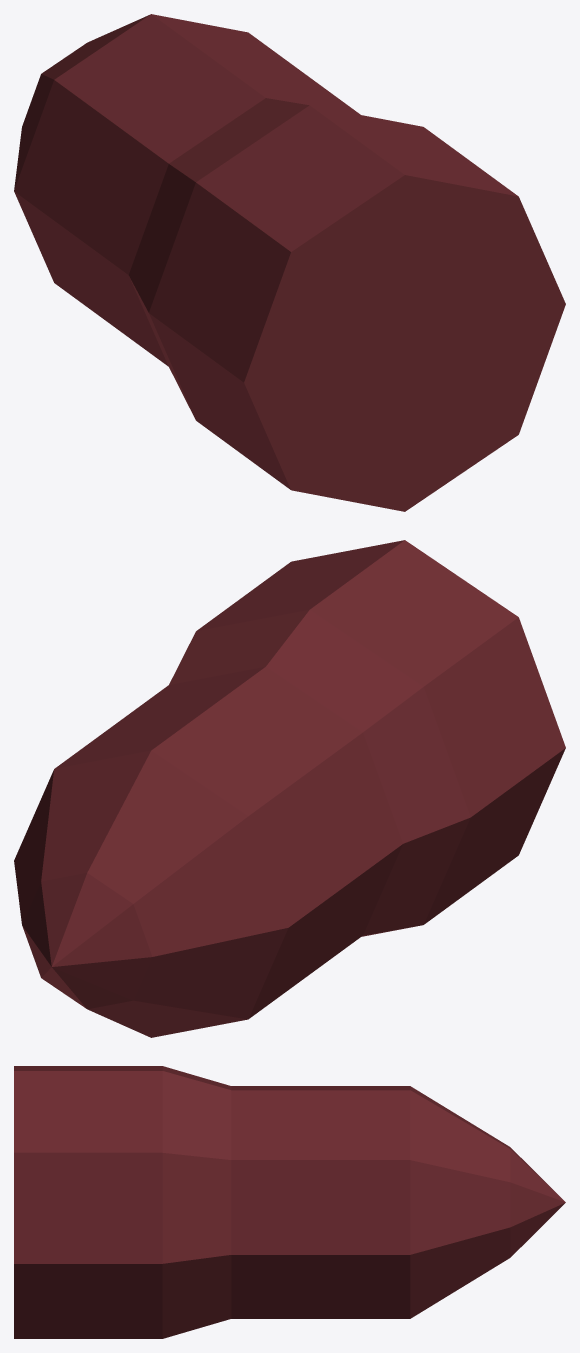
The model's file is plane_bullet.fbx.
3 views of the same model, one above another, from view 1: azimuth 30°, elevation 25°; view 2: azimuth 150°, elevation 25°; view 3: azimuth 270°, elevation 25° (orthographic). The views are drawn at different scales.
Visible parts, largest first — view 1: plane_bullet; view 2: plane_bullet; view 3: plane_bullet.
Boxes of the visible parts, <box> form: plane_bullet: <box>14,14,565,511</box>; plane_bullet: <box>14,540,565,1037</box>; plane_bullet: <box>14,1066,565,1338</box>.
Bounding box in the file's own units: 42.33 × 22.27 × 22.27.
